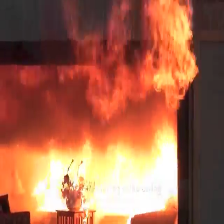fire_h: (59, 1, 198, 122), (34, 122, 177, 224)
